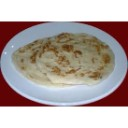parota: (41, 35, 117, 83), (12, 42, 67, 89)
